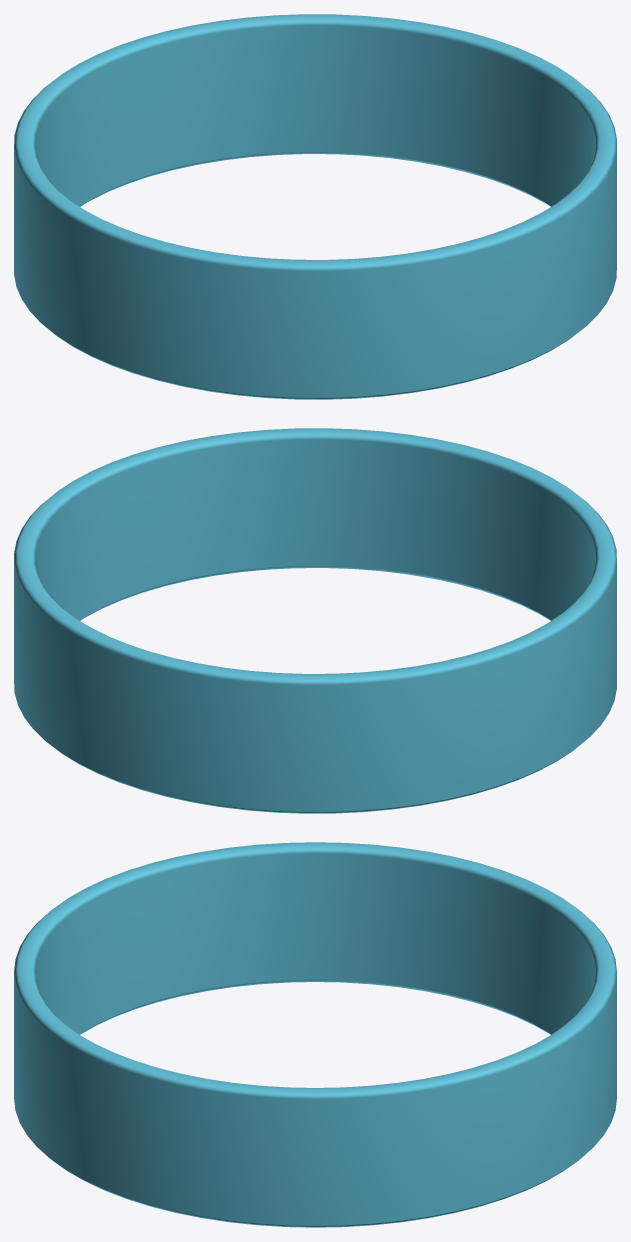
3 renders of one model, top to bottom at view 1: azimuth 30°, elevation 25°; view 2: azimuth 150°, elevation 25°; view 3: azimuth 270°, elevation 25°, orthographic.
Parts seen in each view (by area): view 1: seal_body; view 2: seal_body; view 3: seal_body.
Part boxes in pixels (x1,y1,x2,y2): seal_body: [14, 14, 616, 399]; seal_body: [14, 428, 616, 813]; seal_body: [14, 842, 616, 1227].
Size of the model in its own units: 0.0517 by 0.0127 by 0.0517.
